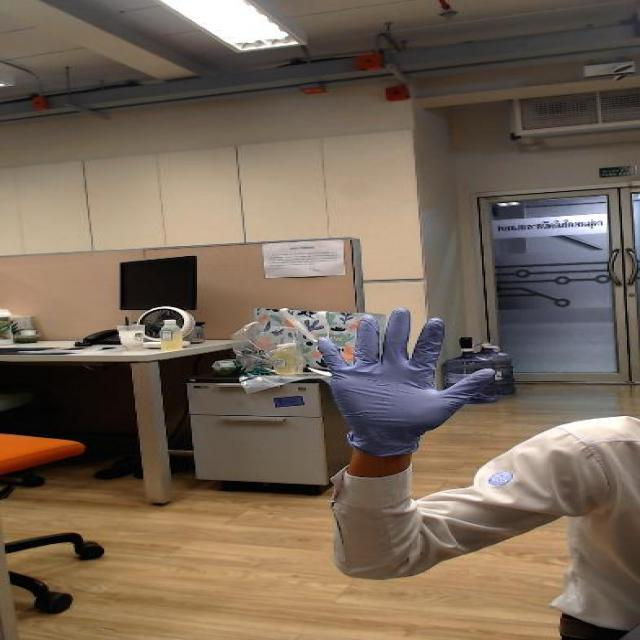Glove: (310, 302, 497, 461)
